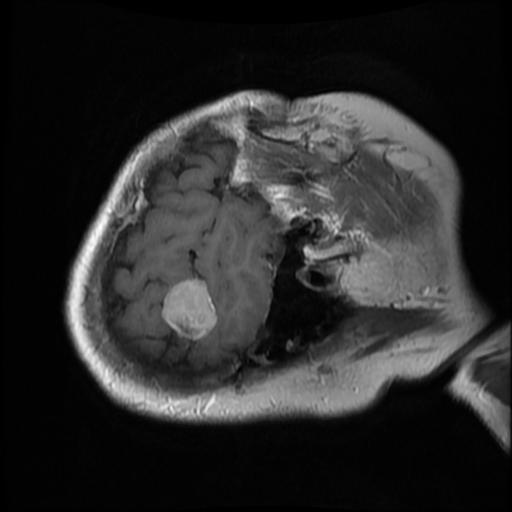meningioma: (160, 278, 217, 338)
